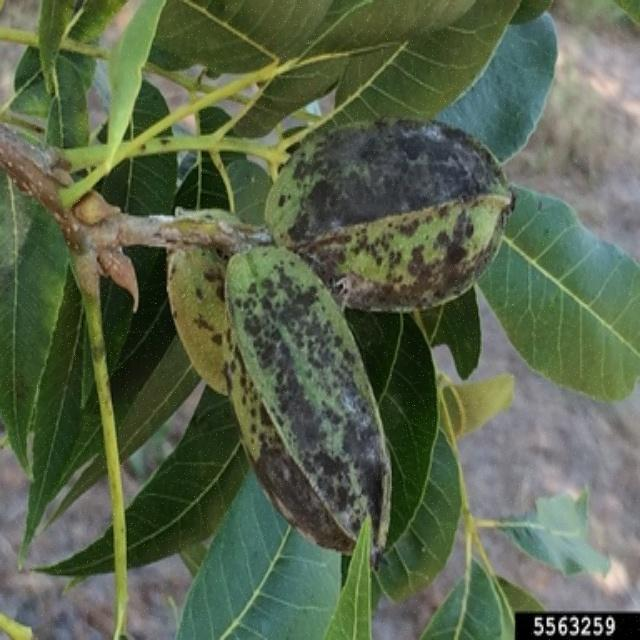leaf_spot: (210, 236, 400, 570), (308, 102, 499, 354)
